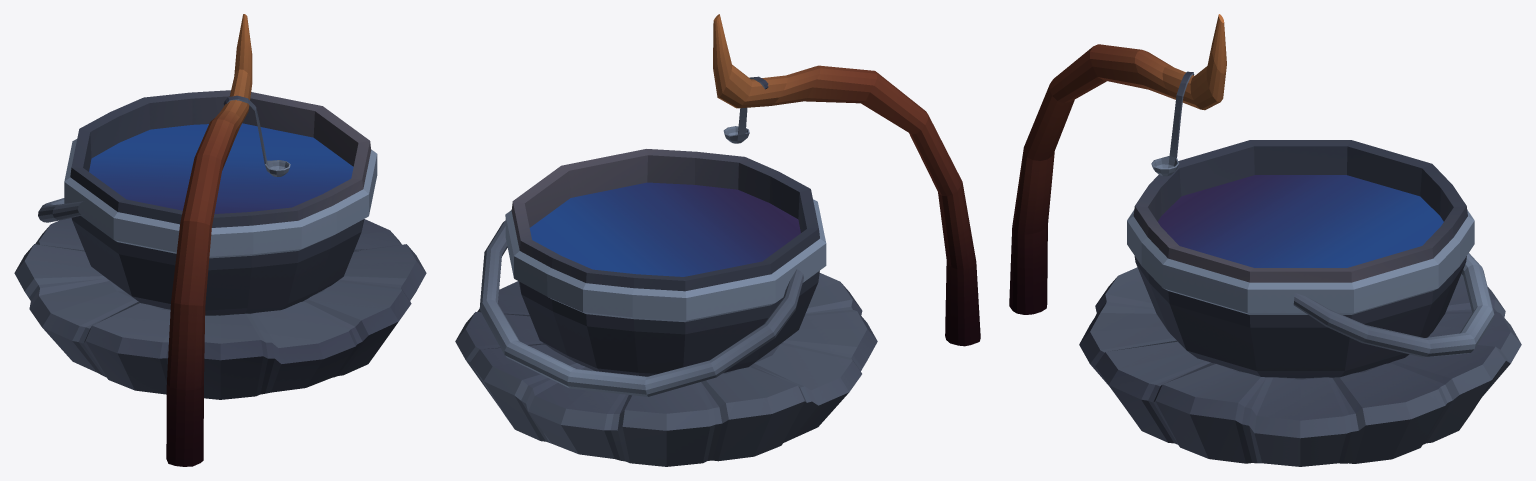
Rendered from Cauldron.fbx.
3 renders of one model, left to right at view 1: azimuth 30°, elevation 25°; view 2: azimuth 150°, elevation 25°; view 3: azimuth 270°, elevation 25°, orthographic. The views are drawn at different scales.
Visible parts, largest first — view 1: Cauldron, Brick Base, Cone, Handle, Spoon; view 2: Cauldron, Brick Base, Cone, Handle, Spoon; view 3: Cauldron, Brick Base, Cone, Handle, Spoon.
Part boxes in pixels (x1=…): Cauldron: x1=64, y1=90, x2=377, y2=315; Brick Base: x1=14, y1=218, x2=426, y2=399; Cone: x1=166, y1=14, x2=252, y2=466; Handle: x1=38, y1=198, x2=84, y2=222; Spoon: x1=223, y1=95, x2=290, y2=176; Cauldron: x1=505, y1=149, x2=826, y2=376; Brick Base: x1=455, y1=273, x2=877, y2=466; Cone: x1=713, y1=14, x2=980, y2=346; Handle: x1=479, y1=220, x2=803, y2=396; Spoon: x1=723, y1=76, x2=768, y2=143; Cauldron: x1=1127, y1=140, x2=1474, y2=378; Brick Base: x1=1079, y1=267, x2=1521, y2=466; Cone: x1=1009, y1=14, x2=1226, y2=314; Handle: x1=1293, y1=253, x2=1494, y2=357; Spoon: x1=1151, y1=71, x2=1194, y2=176.
Size of the model in its own units: 394 by 364 by 456.
